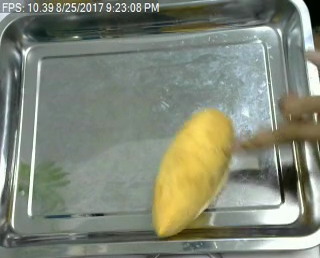Mango: (151, 109, 237, 236)
